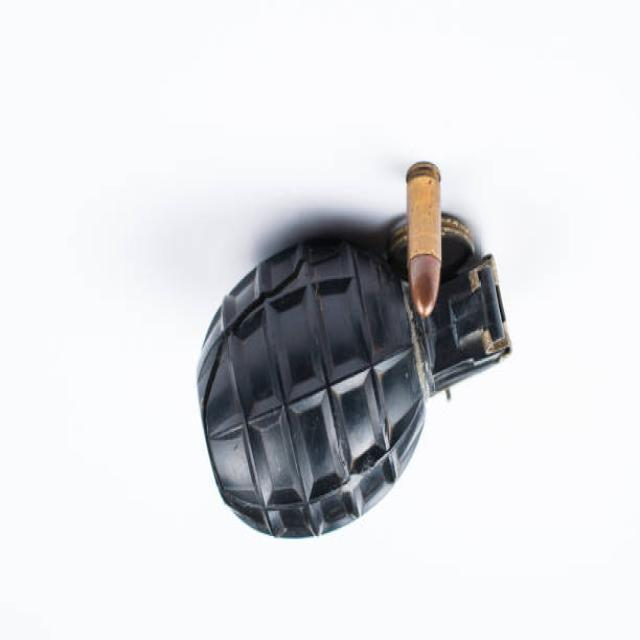grenade: (199, 214, 515, 545)
